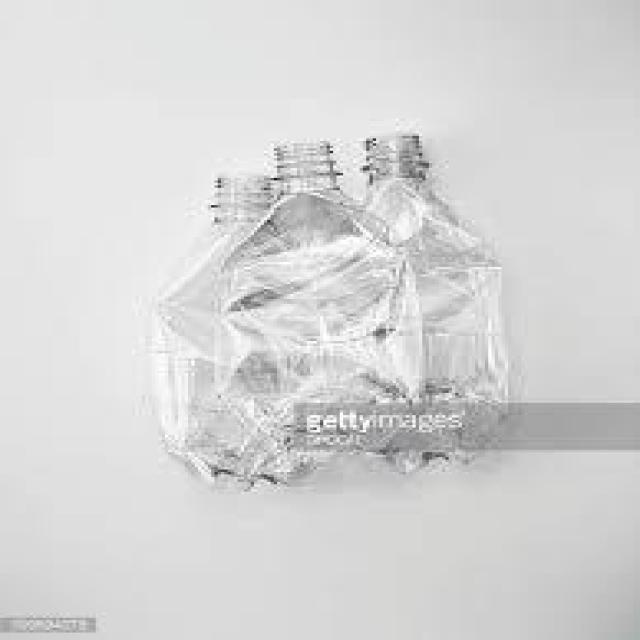bottle: (213, 128, 437, 458), (138, 163, 336, 493), (350, 122, 510, 462)
